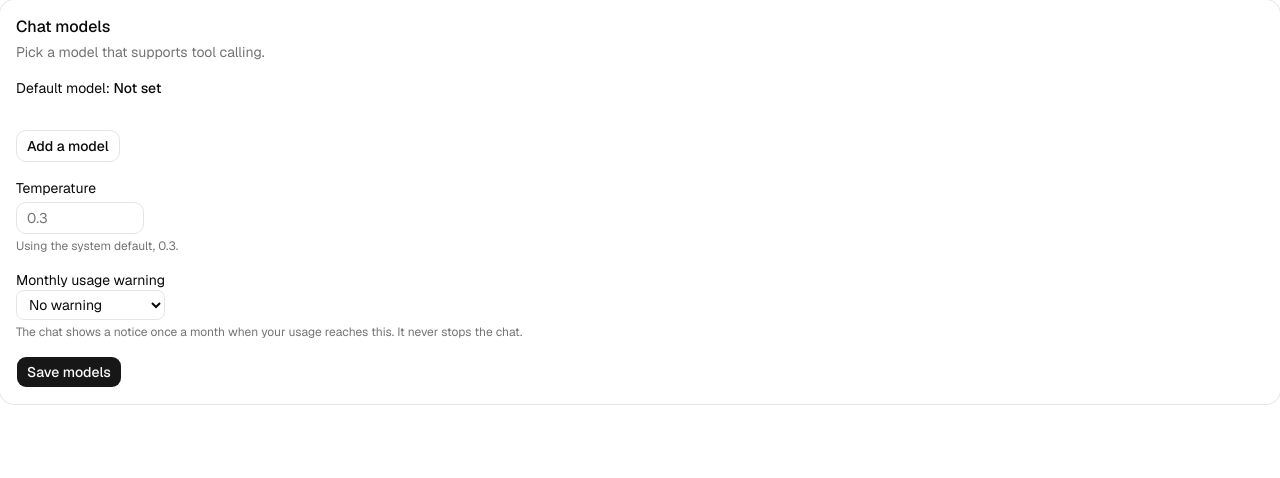
ModelSettingsSection › the usage warning threshold › refuses a threshold without an amount, before saving
Expected: the text "Not set" is shown, [114,79,162,97]
Select "Tokens" in the dropdown named "Warning unit": (90, 305) [16,290,165,320]
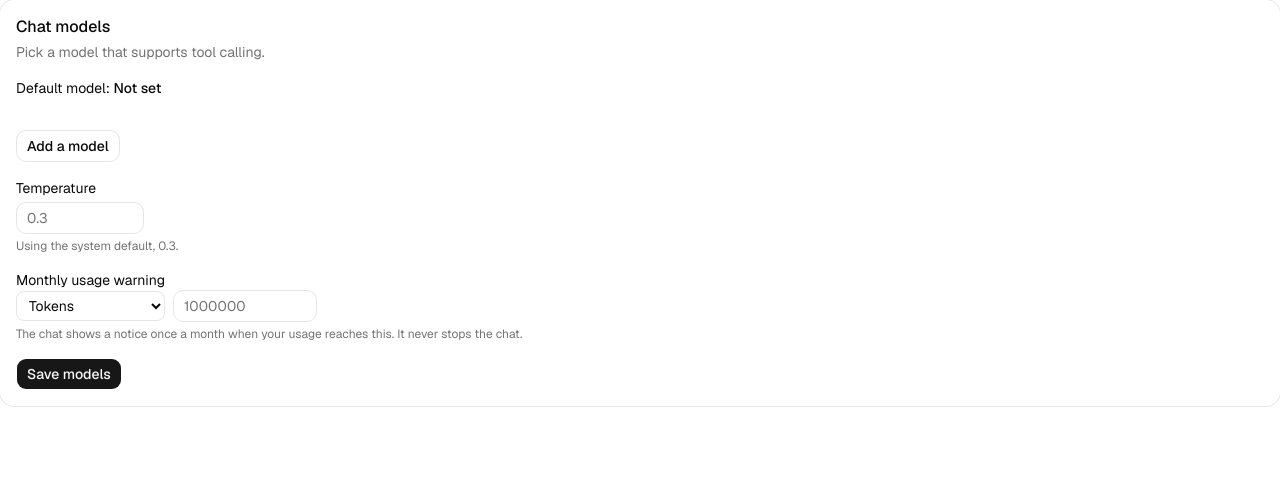
Click the button "Save models": click(69, 374) [16,358,122,390]
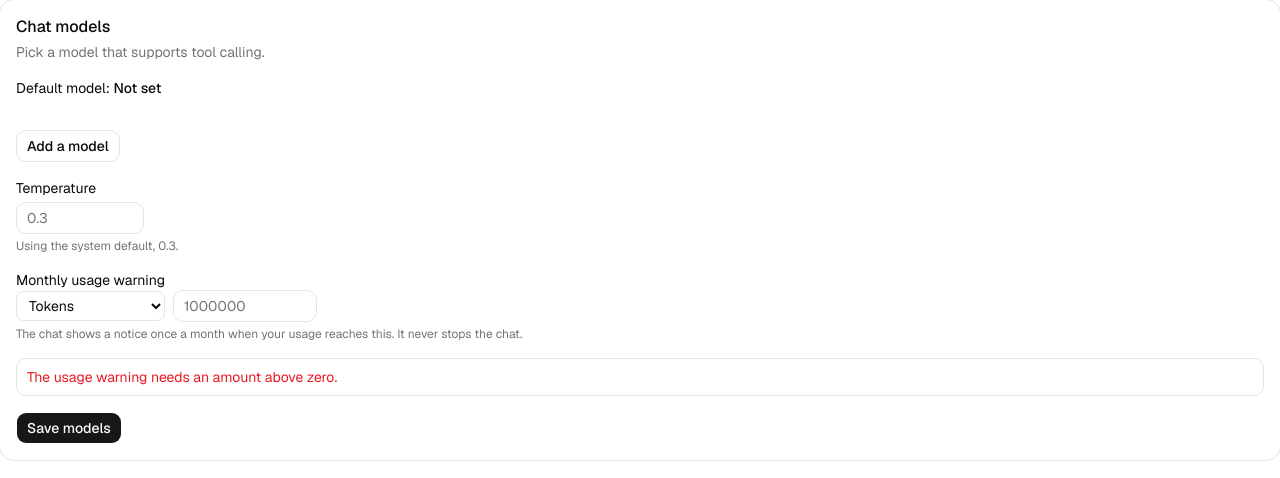
Now the text "The usage warning needs an amount above zero." is shown, box [27,368,337,386]
